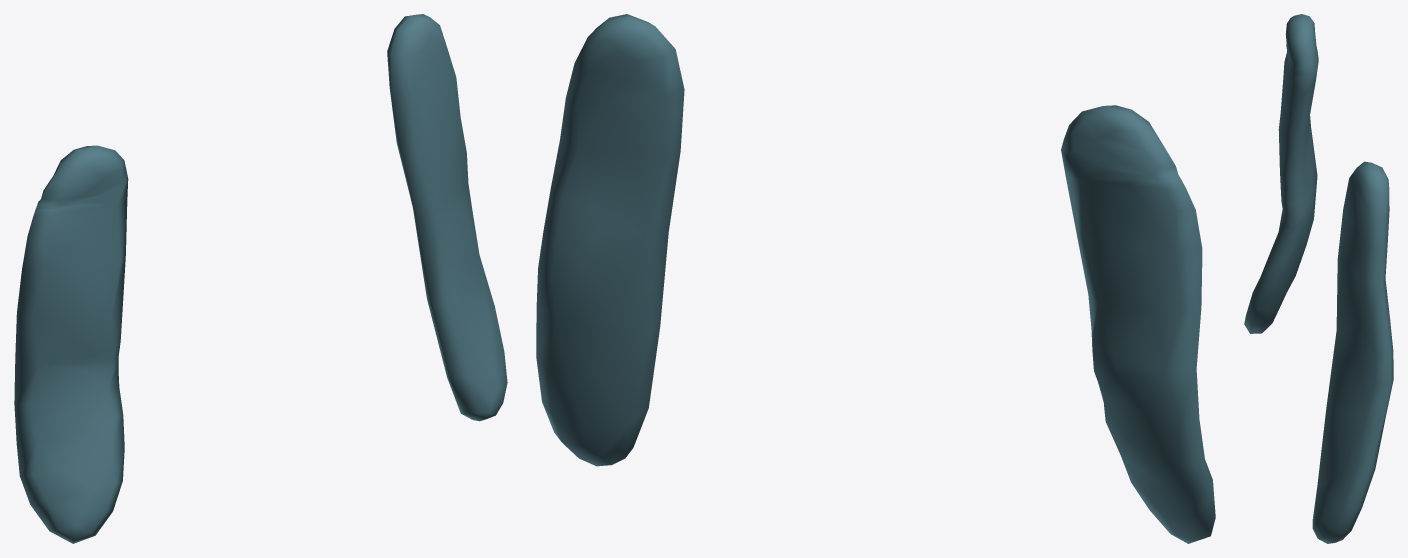
Rendered from Flexor_digitorum_superficialis-middle_phalanx_of_3d_finger._Gen.glb.
3 renders of one model, left to right at view 1: azimuth 30°, elevation 25°; view 2: azimuth 150°, elevation 25°; view 3: azimuth 270°, elevation 25°, orthographic. The views are drawn at different scales.
Parts seen in each view (by area): view 1: Flexor_digitorum_superficialis-middle_phalanx_of_3d_finger._; view 2: Flexor_digitorum_superficialis-middle_phalanx_of_3d_finger._; view 3: Flexor_digitorum_superficialis-middle_phalanx_of_3d_finger._.
Part boxes in pixels (box(x1,y1,x2,y2)): Flexor_digitorum_superficialis-middle_phalanx_of_3d_finger._: box(14, 14, 507, 543); Flexor_digitorum_superficialis-middle_phalanx_of_3d_finger._: box(536, 14, 1215, 543); Flexor_digitorum_superficialis-middle_phalanx_of_3d_finger._: box(1244, 14, 1393, 543).
Size of the model in its own units: 0.00847 by 0.00622 by 0.00236.
